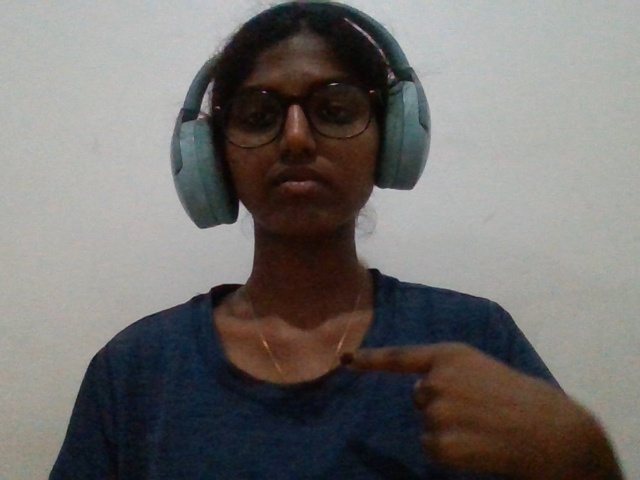Me: (302, 318, 640, 468)
